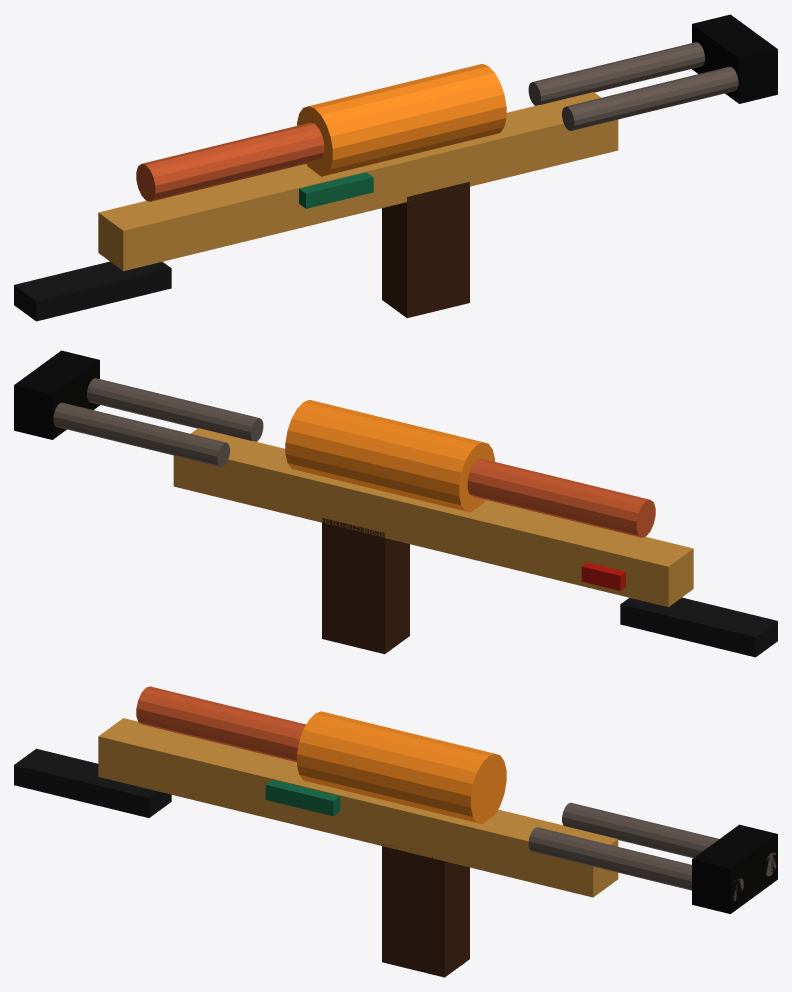
Rendered from V0135WA_006_FutureAltLightningLance_Silhouette.obj.
The picture shows the model from 3 angles, top to bottom: view 1: azimuth 30°, elevation 25°; view 2: azimuth 150°, elevation 25°; view 3: azimuth 330°, elevation 25°; orthographic projection.
Parts seen in each view (by area): view 1: long_brass_spine, central_glass_accumulator, walnut_forward_grip, rear_copper_induction_coil, stock_iron_folding_strut, oil_soot_arc_scarring, forward_arc_prong_right, forward_arc_prong_left, route_green_charge_window; view 2: long_brass_spine, central_glass_accumulator, walnut_forward_grip, rear_copper_induction_coil, stock_iron_folding_strut, oil_soot_arc_scarring, forward_arc_prong_left, forward_arc_prong_right, warning_red_overload_switch; view 3: long_brass_spine, central_glass_accumulator, walnut_forward_grip, rear_copper_induction_coil, oil_soot_arc_scarring, stock_iron_folding_strut, forward_arc_prong_right, forward_arc_prong_left, route_green_charge_window.
Boxes of the visible parts, left/top/right/bottom form: long_brass_spine: left=98, top=92, right=618, bottom=271; central_glass_accumulator: left=297, top=64, right=506, bottom=176; walnut_forward_grip: left=382, top=181, right=469, bottom=318; rear_copper_induction_coil: left=136, top=122, right=324, bottom=201; stock_iron_folding_strut: left=14, top=261, right=171, bottom=321; oil_soot_arc_scarring: left=692, top=14, right=777, bottom=103; forward_arc_prong_right: left=562, top=66, right=738, bottom=130; forward_arc_prong_left: left=528, top=42, right=704, bottom=105; route_green_charge_window: left=299, top=172, right=373, bottom=208; long_brass_spine: left=173, top=428, right=693, bottom=607; central_glass_accumulator: left=285, top=400, right=494, bottom=512; walnut_forward_grip: left=322, top=518, right=409, bottom=654; rear_copper_induction_coil: left=467, top=458, right=655, bottom=537; stock_iron_folding_strut: left=620, top=597, right=777, bottom=657; oil_soot_arc_scarring: left=14, top=350, right=99, bottom=439; forward_arc_prong_left: left=53, top=402, right=229, bottom=466; forward_arc_prong_right: left=87, top=378, right=263, bottom=441; warning_red_overload_switch: left=581, top=562, right=625, bottom=590; long_brass_spine: left=98, top=718, right=618, bottom=897; central_glass_accumulator: left=297, top=711, right=506, bottom=824; walnut_forward_grip: left=382, top=844, right=469, bottom=977; rear_copper_induction_coil: left=136, top=686, right=305, bottom=762; oil_soot_arc_scarring: left=692, top=824, right=777, bottom=913; stock_iron_folding_strut: left=14, top=748, right=171, bottom=817; forward_arc_prong_right: left=528, top=827, right=743, bottom=900; forward_arc_prong_left: left=562, top=802, right=776, bottom=876; route_green_charge_window: left=265, top=779, right=340, bottom=816.
Bounding box in the file's own units: 3.02 × 0.87 × 0.34.
